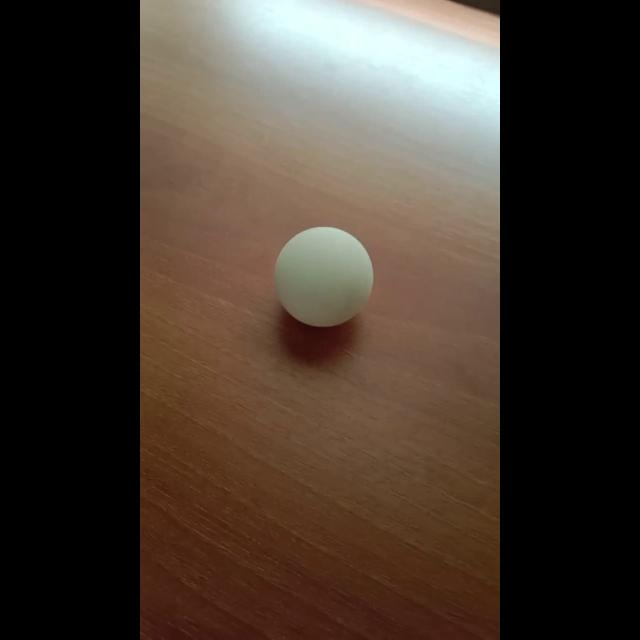white ball: (274, 226, 374, 328)
